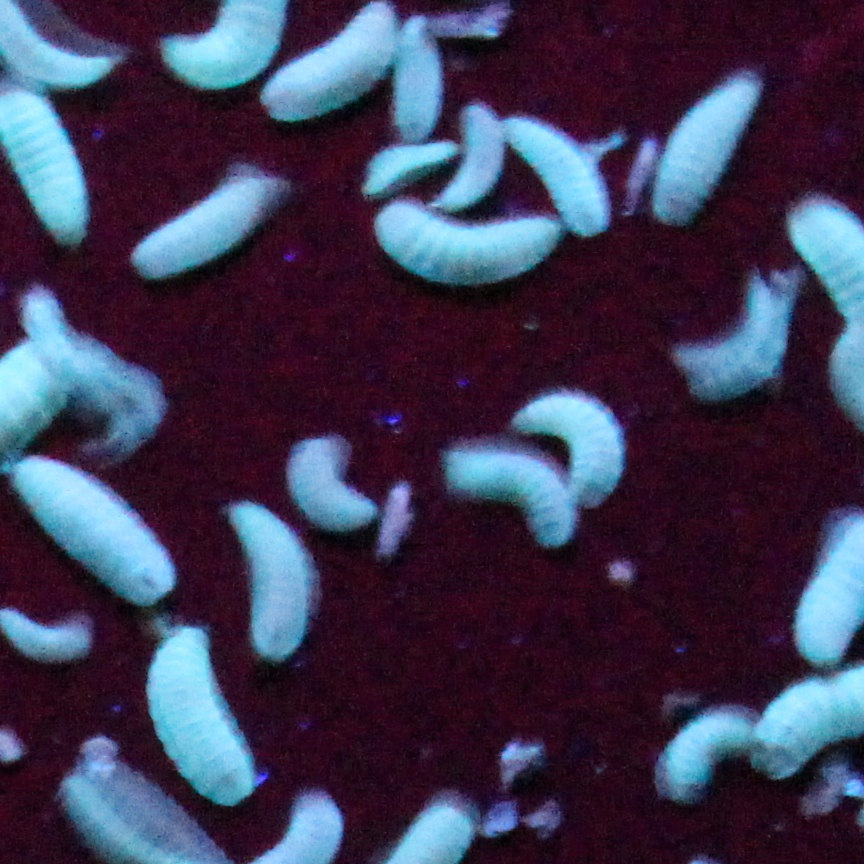larve: (15, 459, 173, 604), (146, 631, 249, 811), (653, 77, 761, 229), (266, 3, 398, 119), (135, 170, 271, 277), (500, 117, 618, 237), (377, 204, 558, 281), (686, 275, 789, 394), (227, 504, 307, 657), (443, 451, 571, 545), (527, 395, 619, 500), (435, 99, 515, 210), (665, 704, 744, 802), (291, 443, 372, 527), (394, 18, 440, 141), (361, 139, 452, 198)
